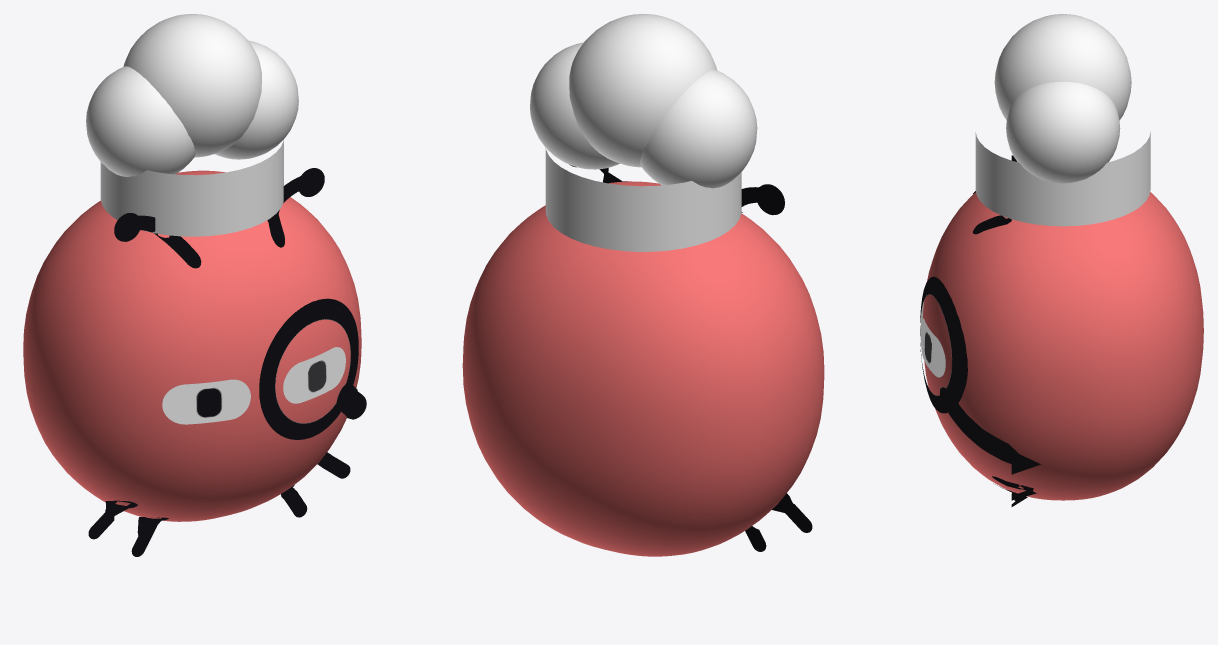
Rendered from bug.glb.
The picture shows the model from 3 angles, left to right: view 1: azimuth 30°, elevation 25°; view 2: azimuth 150°, elevation 25°; view 3: azimuth 270°, elevation 25°; orthographic projection. The views are drawn at different scales.
Parts seen in each view (by area): view 1: Bug cook; view 2: Bug cook; view 3: Bug cook.
Boxes of the visible parts, <box> form: Bug cook: <box>23,14,366,556</box>; Bug cook: <box>462,14,824,556</box>; Bug cook: <box>920,14,1203,506</box>.
Size of the model in its own units: 2.38 by 2.99 by 1.49.
3 materials, 1 textured.
